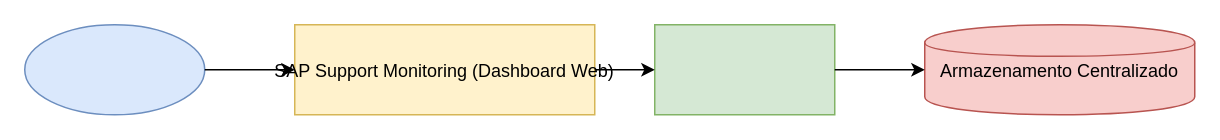
This 1220x140 diagram has some shape labels left out. Here are the shapes that lost their labels. From the top down, the centre of each, then its label:
At (114,69): "Analista / Consultor".
At (744,69): "SAP for Me".
